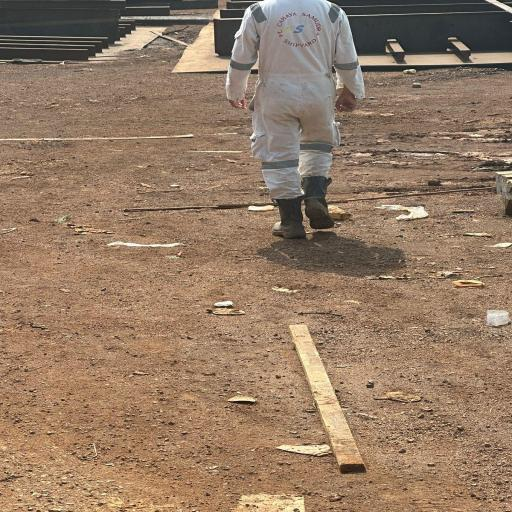safety_shoe: (302, 176, 341, 230), (269, 198, 306, 240)
